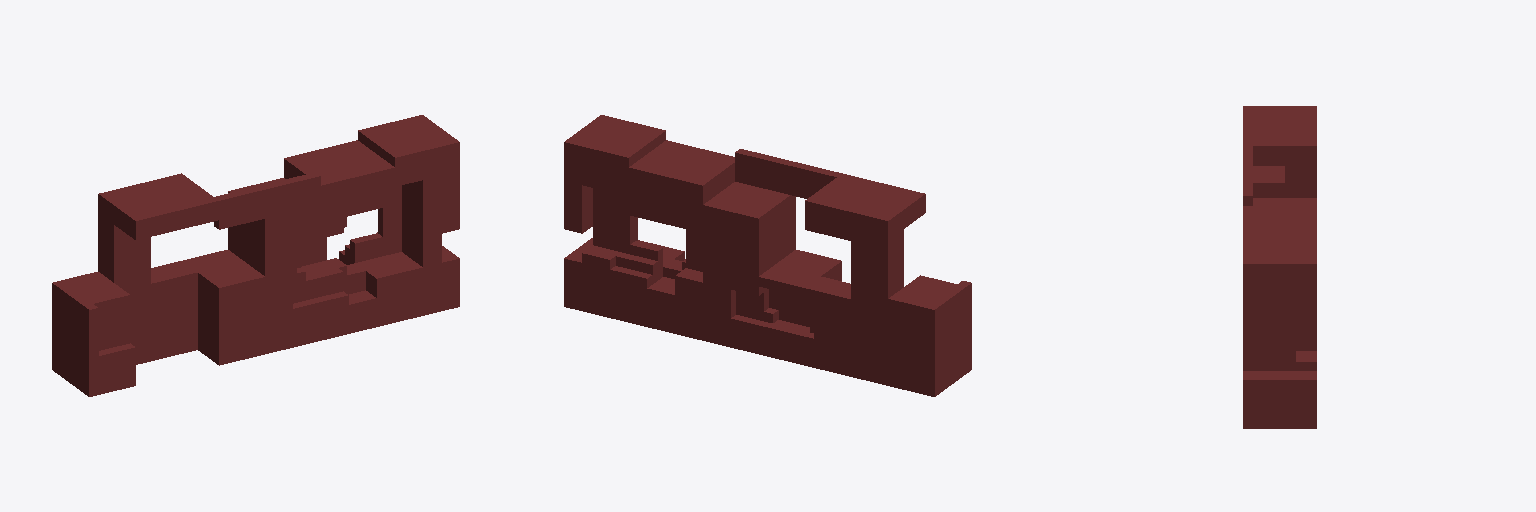
3 renders of one model, left to right at view 1: azimuth 30°, elevation 25°; view 2: azimuth 150°, elevation 25°; view 3: azimuth 270°, elevation 25°, orthographic.
Visible parts, largest first — view 1: object 1; view 2: object 1; view 3: object 1.
Boxes of the visible parts, <box> form: object 1: <box>52,115,459,396</box>; object 1: <box>564,115,971,396</box>; object 1: <box>1243,106,1316,428</box>.
Bounding box in the file's own units: 4 × 1.7 × 0.7.
Materials: 1 (1 with a texture image).